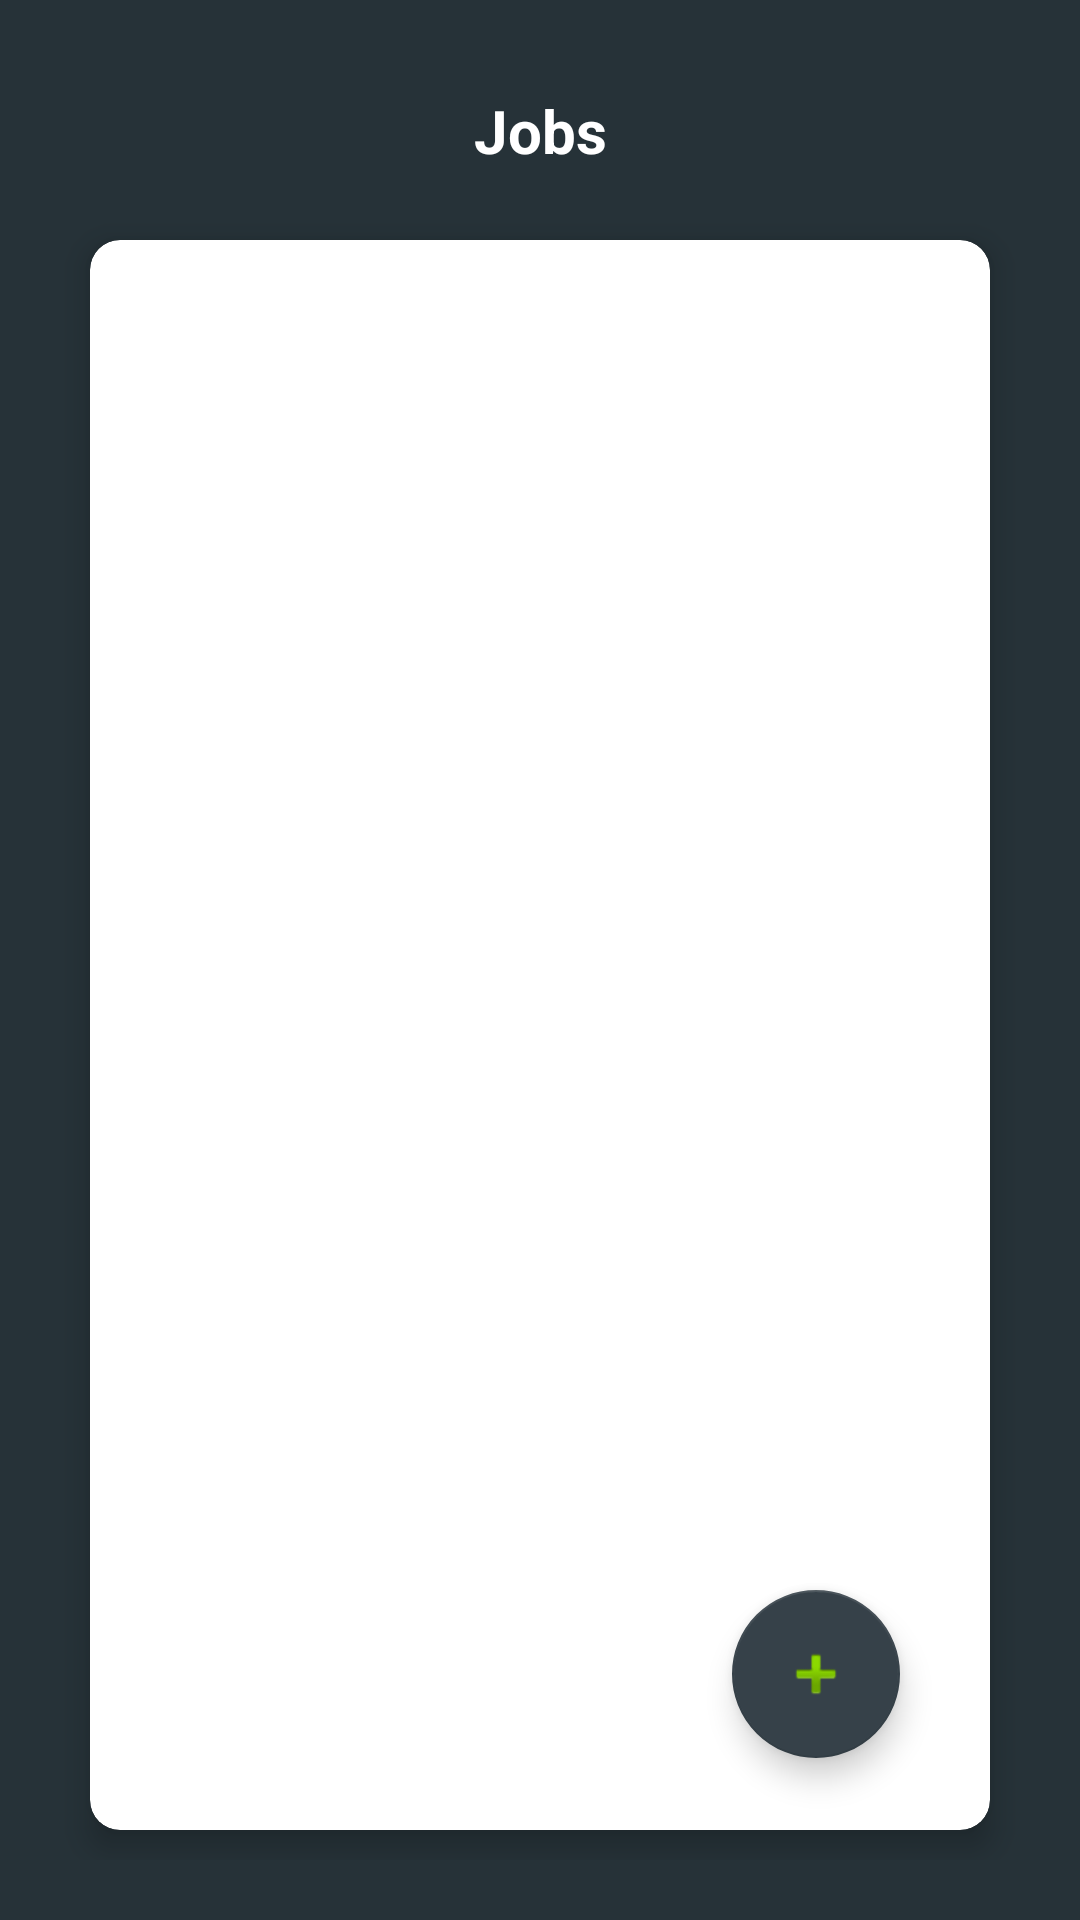

Named icons in this screenshot (1080w x 1920h) and their bounding boxes, (x1, y1, x2, y2):
add: (732, 1590, 900, 1758)
